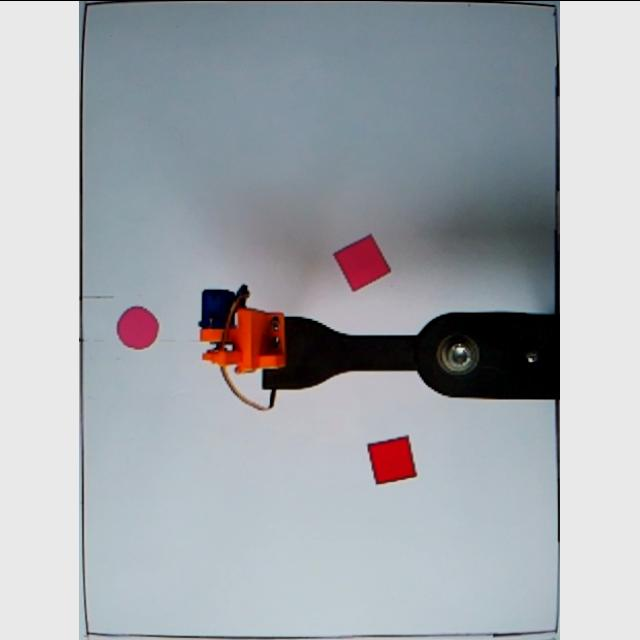pinkCircle: (116, 306, 164, 350)
pinkSquare: (334, 233, 394, 290)
redSquare: (368, 434, 419, 486)
